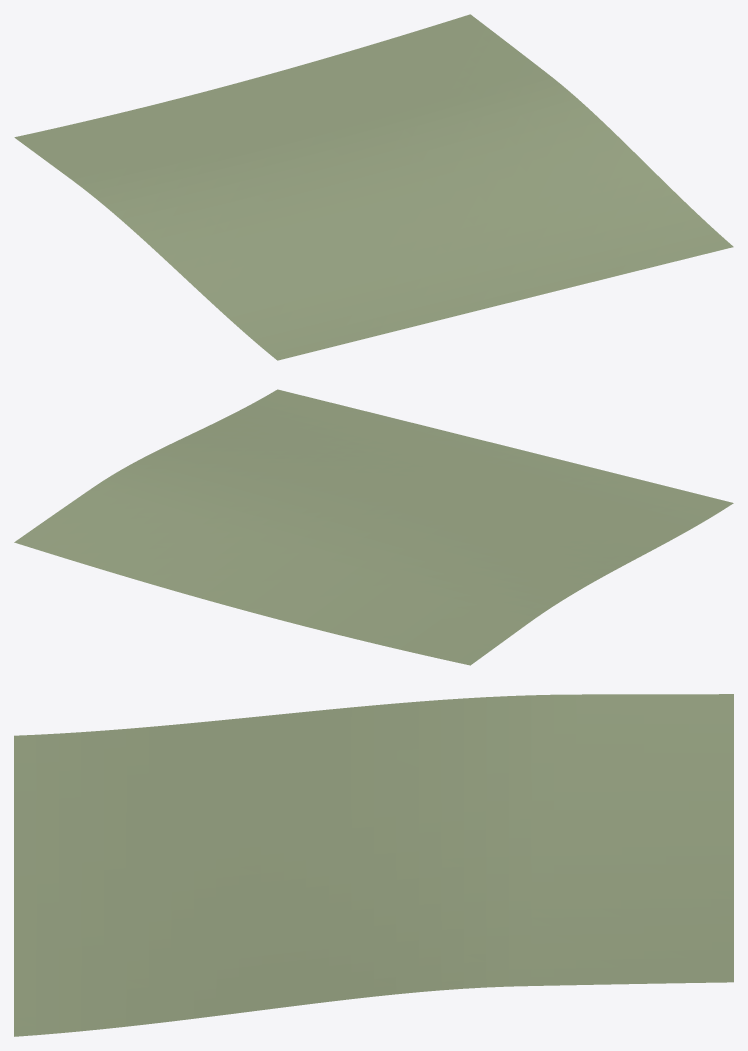
File: valley-13-7.glb
3 views of the same model, one above another, from view 1: azimuth 30°, elevation 25°; view 2: azimuth 150°, elevation 25°; view 3: azimuth 270°, elevation 25° (orthographic). The views are drawn at different scales.
Visible parts, largest first — view 1: valley-13-7; view 2: valley-13-7; view 3: valley-13-7.
Boxes of the visible parts, x1,y1,x2,y2 form: valley-13-7: (14,14,733,360); valley-13-7: (14,389,733,665); valley-13-7: (14,694,733,1036).
Bounding box in the file's own units: 256 × 22.6 × 256.
